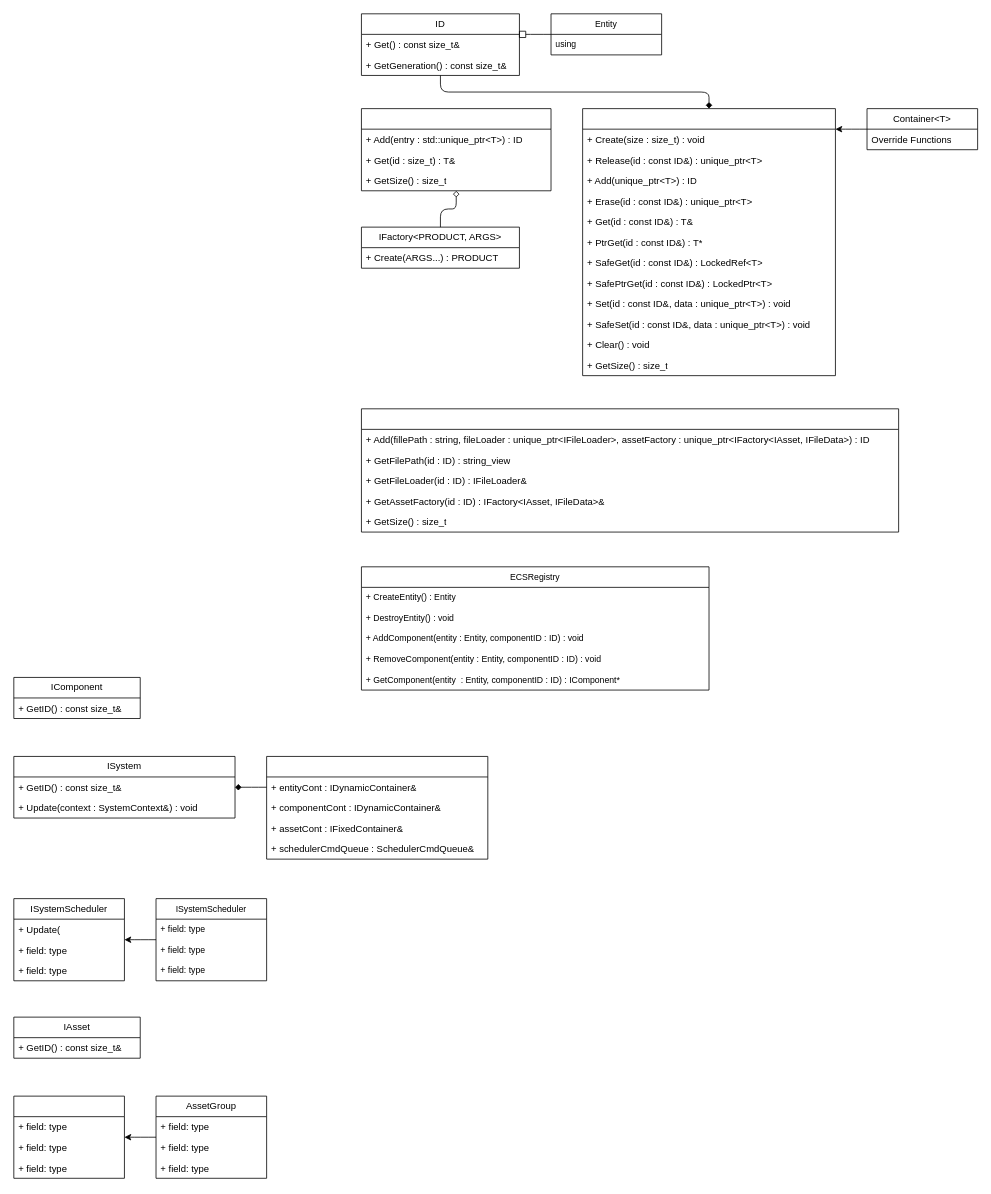
The diagram is 991 pixels wide and 1194 high, and some of its shapes have lost their labels. The shapes that lost their labels are listed below. From the top down, each one's box as (x1, y1, x2, y2) in pixels, then its label:
(361, 108, 551, 191): FactoryRegistry<T>
(582, 108, 835, 376): IContainer<T>
(361, 408, 899, 532): AssetRegistry
(266, 756, 488, 859): SystemContext
(13, 1095, 124, 1178): IAssetGroup
